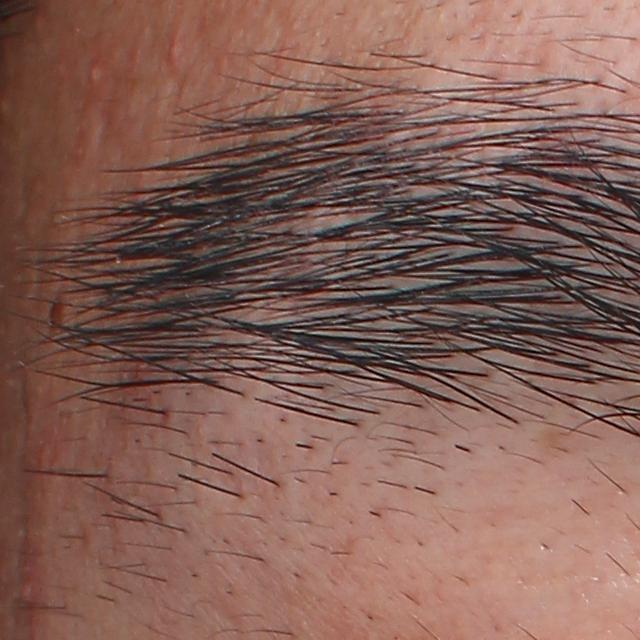papule: (162, 36, 182, 66)
